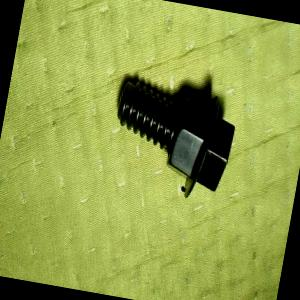parafuso: (103, 77, 240, 204)
